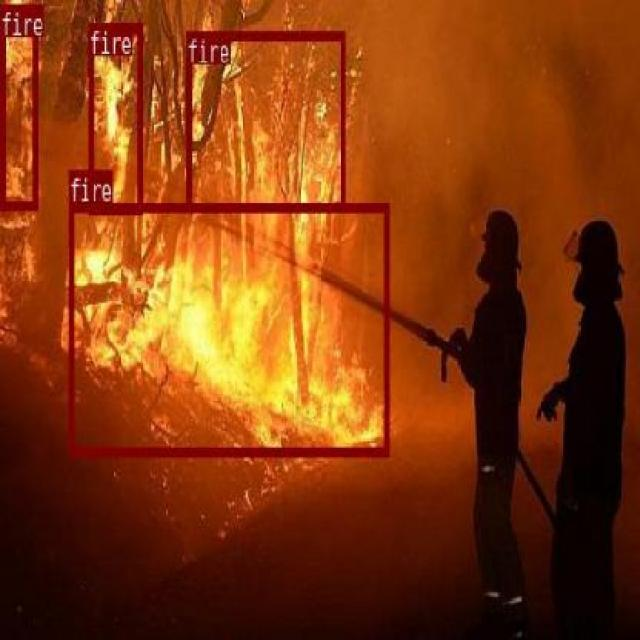fire: (69, 203, 388, 454), (186, 29, 345, 211), (88, 19, 142, 212), (0, 2, 37, 208)
